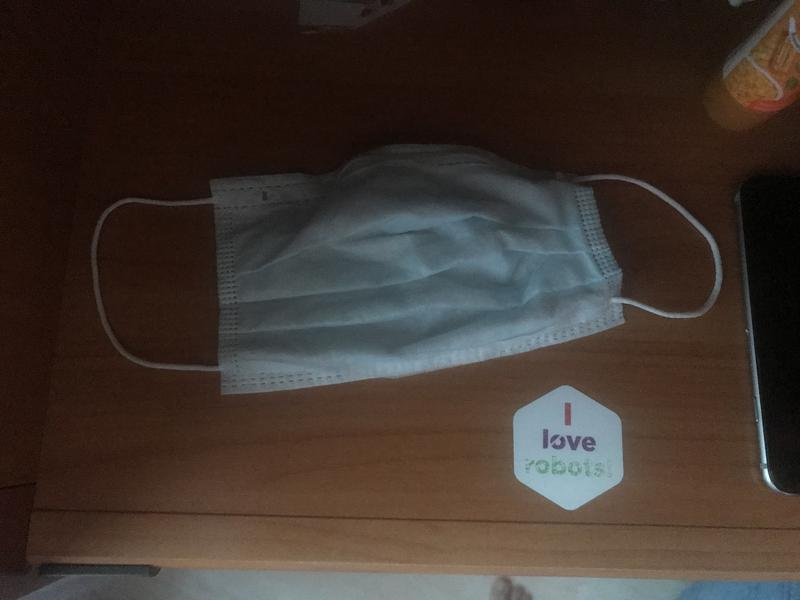medical_mask: (86, 143, 722, 380)
